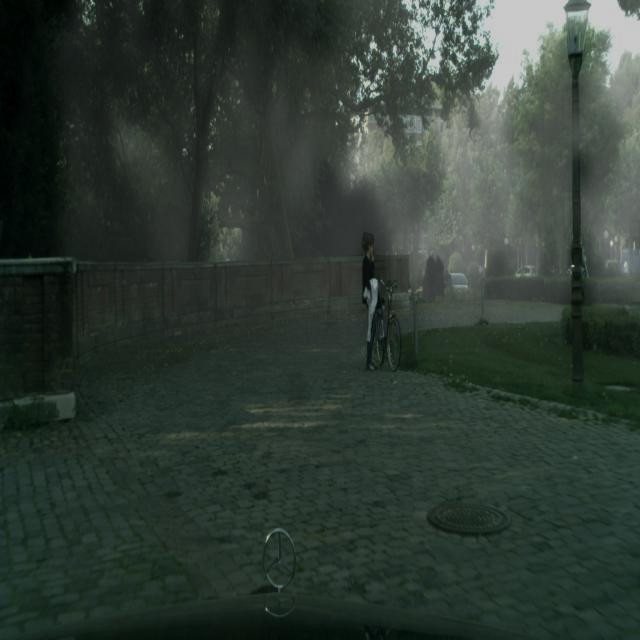car: (372, 277, 401, 372)
person: (362, 233, 380, 371)
truck: (449, 272, 469, 297), (515, 264, 536, 278), (604, 258, 620, 276)
